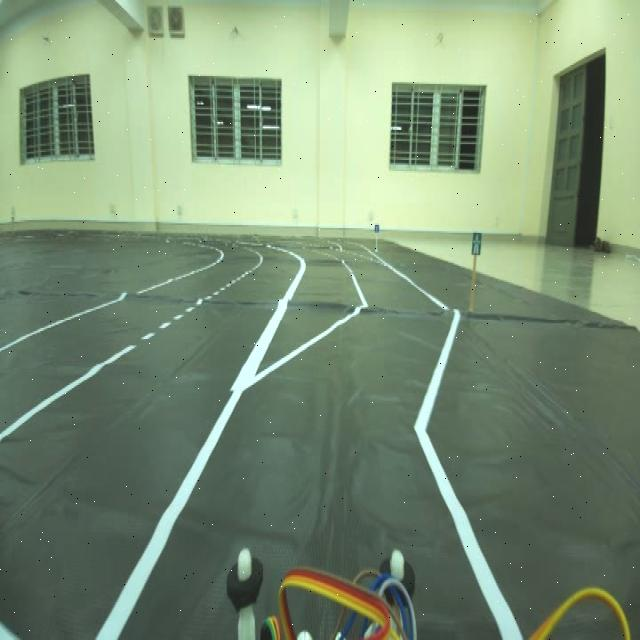highway_entry: (468, 226, 485, 268)
